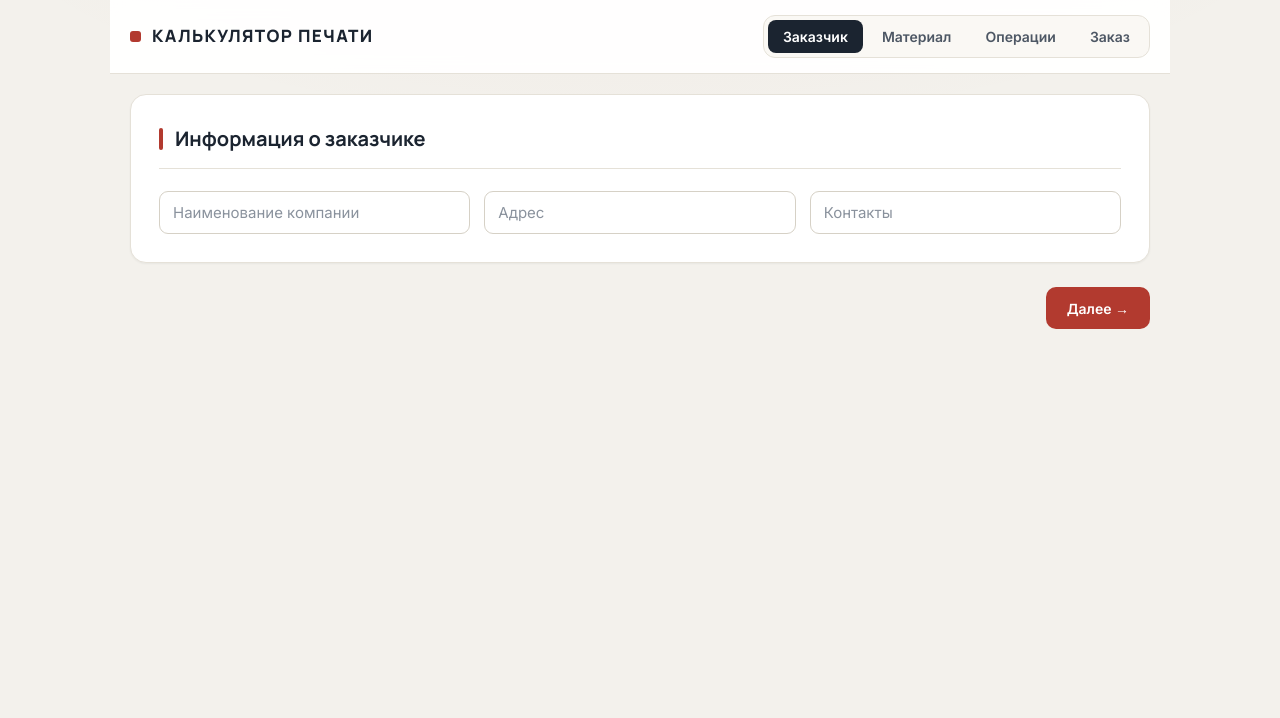
it: App › переключается по шагам через навигацию
The image size is (1280, 718).
Click the button "Материал": (917, 36) [867,20,966,53]
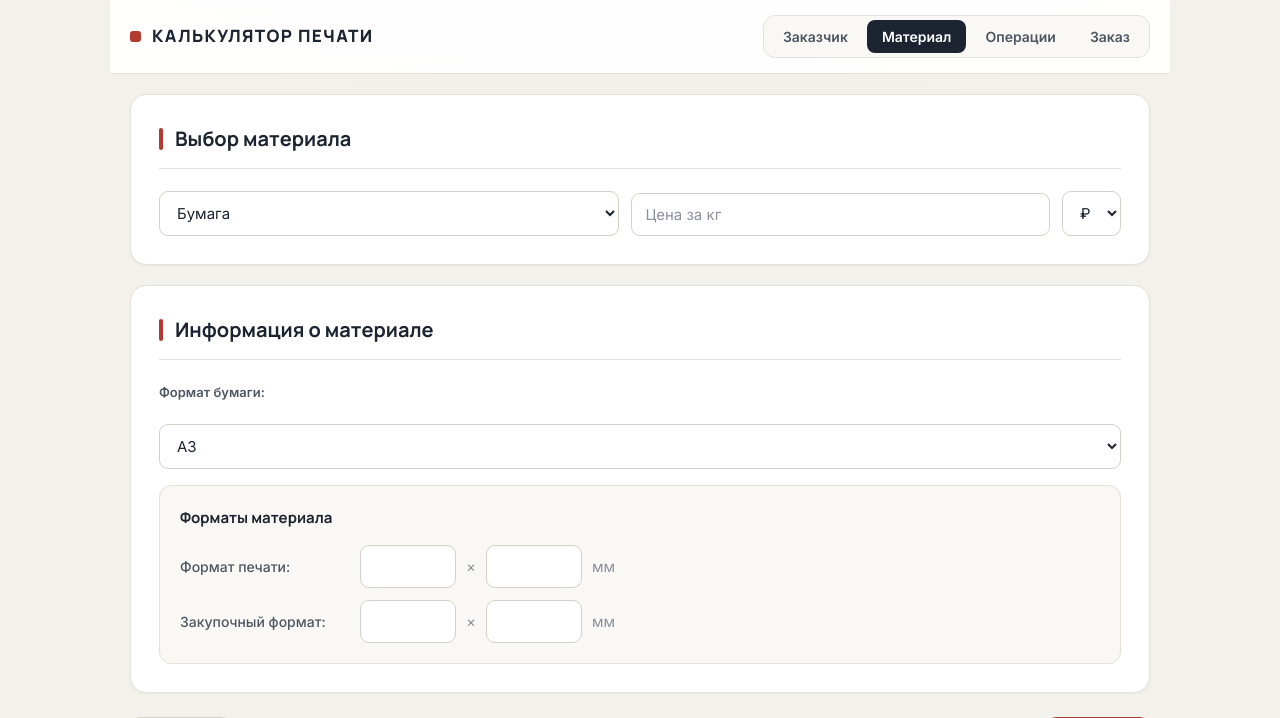
Check: the heading "Выбор материала" is shown, box [159,123,1121,169]
